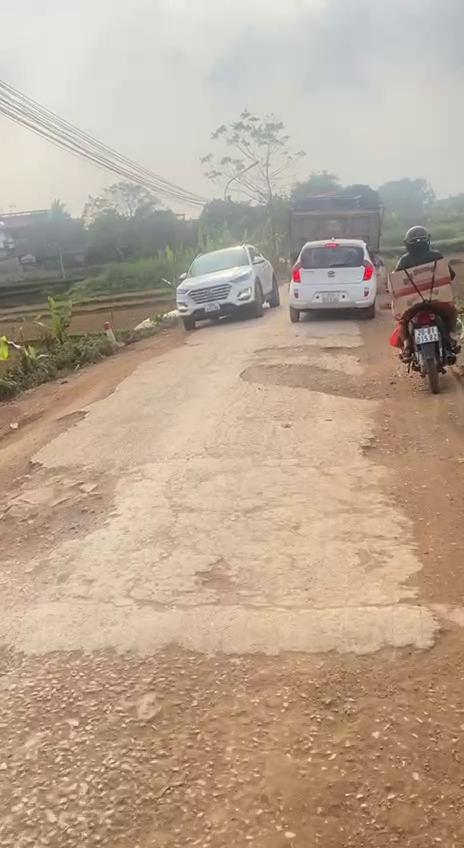pothole: (0, 407, 121, 564), (239, 340, 387, 400), (185, 556, 248, 613), (360, 425, 404, 473)
